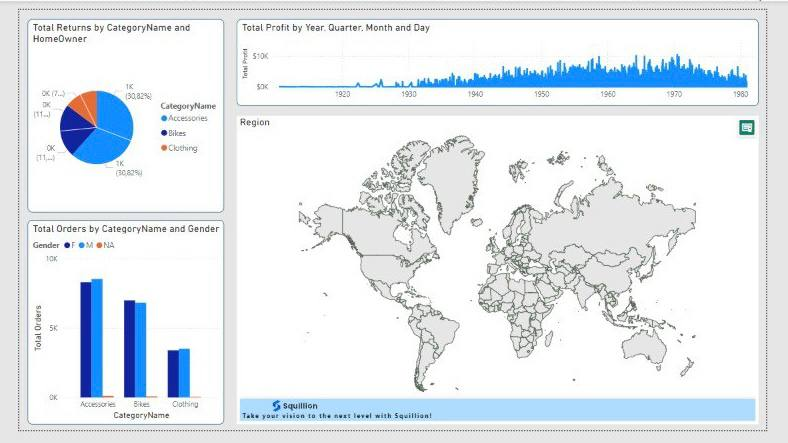

The page's visual inventory and layout, read from the dashboard file:
{"tool":"powerbi","page":{"name":"Customer Details","canvas":[1280,720],"ordinal":3},"visuals":[{"type":"lineChart","fields":{"Category":["Customer Lookup.BirthDate.Variation.Date Hierarchy.Year","Customer Lookup.BirthDate.Variation.Date Hierarchy.Quarter","Customer Lookup.BirthDate.Variation.Date Hierarchy.Month","Customer Lookup.BirthDate.Variation.Date Hierarchy.Day"],"Y":["Measure Table (2).Total Profit"]},"box":[372.9,15.7,894.3,148.6],"z":0},{"type":"clusteredColumnChart","fields":{"Category":["Product Category.CategoryName"],"Y":["Measure Table (2).Total Orders"],"Series":["Customer Lookup.Gender"]},"box":[14.3,360,337.1,350],"z":3000},{"type":"pieChart","fields":{"Category":["Product Category.CategoryName"],"Y":["Measure Table (2).Total Returns"],"Series":["Customer Lookup.HomeOwner"]},"box":[14.3,15.7,337.1,331.4],"z":3001},{"type":"MapBySquillion","fields":{"subCategory":["Territory Lookup.Region"]},"box":[372.9,181.4,894.3,528.6],"z":3002}]}

Visuals, with their boxes in screenshot pixels (x1, y1, x2, y2), scaled from the page's 1280x720 canvas onto the 788x443 screenshot:
lineChart - Customer Lookup.BirthDate.Variation.Date Hierarchy.Year x Customer Lookup.BirthDate.Variation.Date Hierarchy.Quarter: 230, 10, 780, 101
clusteredColumnChart - Product Category.CategoryName x Measure Table (2).Total Orders: 9, 222, 216, 437
pieChart - Product Category.CategoryName x Measure Table (2).Total Returns: 9, 10, 216, 214
MapBySquillion - Territory Lookup.Region: 230, 112, 780, 437
